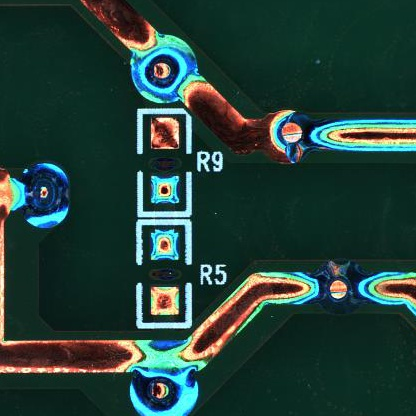spot: (131, 35, 197, 104), (127, 368, 203, 416), (21, 162, 70, 229), (263, 107, 314, 167), (311, 260, 366, 314)
